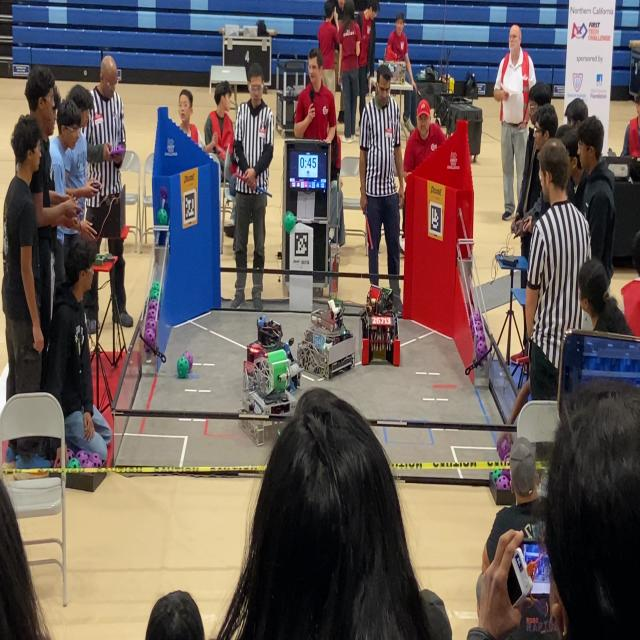artifact_green: (498, 437, 511, 461), (177, 356, 189, 378), (284, 211, 296, 233), (496, 475, 510, 490), (183, 351, 193, 372), (157, 209, 167, 226), (68, 458, 81, 469), (492, 470, 502, 482), (149, 301, 158, 314), (150, 288, 160, 299), (150, 290, 159, 300), (152, 281, 160, 290), (152, 281, 160, 289), (150, 284, 160, 290), (277, 428, 283, 437), (150, 287, 160, 292), (151, 281, 159, 287), (153, 281, 160, 286)
artifact_purple: (498, 438, 512, 461), (177, 356, 190, 379), (476, 337, 486, 359), (183, 351, 193, 372), (144, 328, 155, 346), (497, 475, 510, 490), (89, 453, 102, 468), (76, 450, 88, 463), (474, 326, 485, 340), (145, 313, 155, 328), (146, 318, 156, 332), (81, 457, 93, 468), (476, 333, 485, 346), (473, 311, 482, 323), (474, 321, 483, 333), (67, 448, 74, 463), (149, 300, 158, 311), (472, 311, 481, 322), (471, 327, 477, 343), (160, 187, 167, 200), (147, 308, 155, 319), (144, 344, 152, 355), (503, 470, 510, 482), (54, 457, 61, 468), (470, 315, 475, 329)
